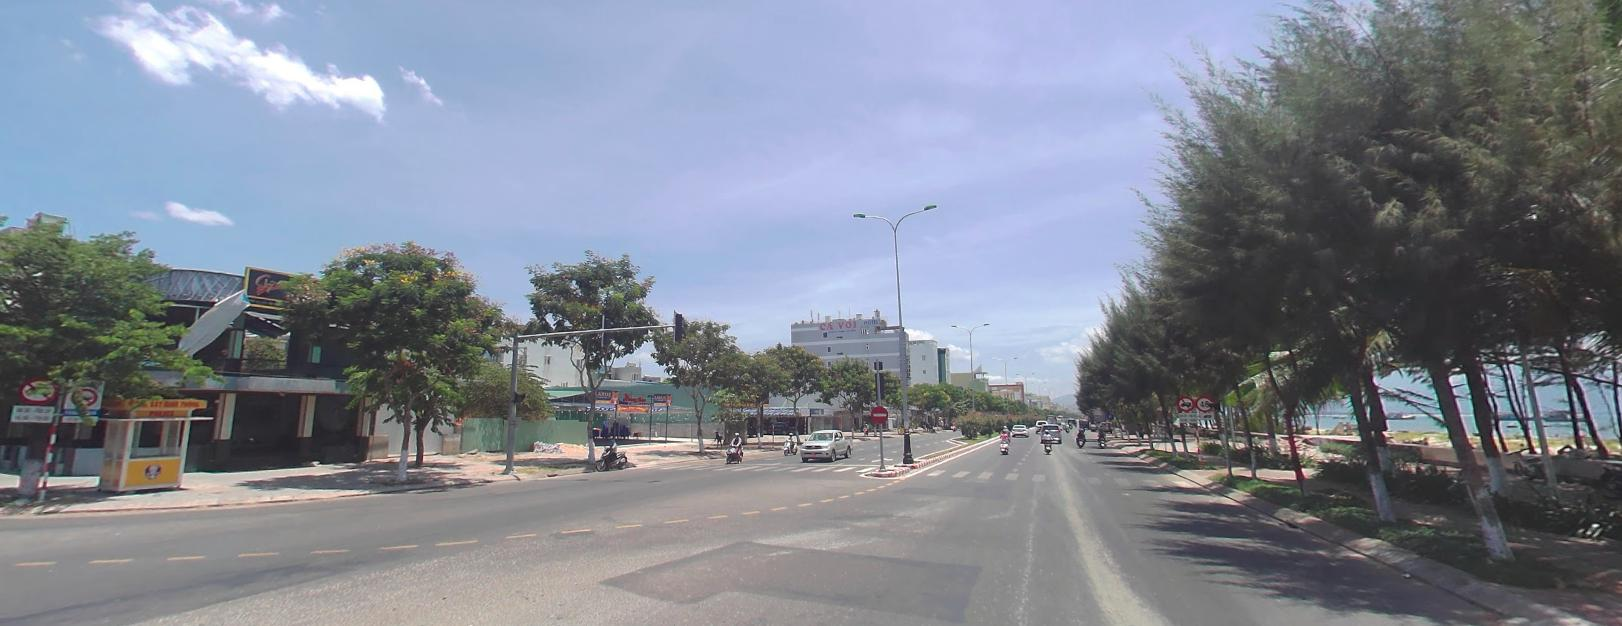Cam con lai: (1177, 394, 1193, 410)
Cam nguoc chieu: (870, 404, 887, 423)
Gioi han toc do: (1195, 395, 1213, 410)
